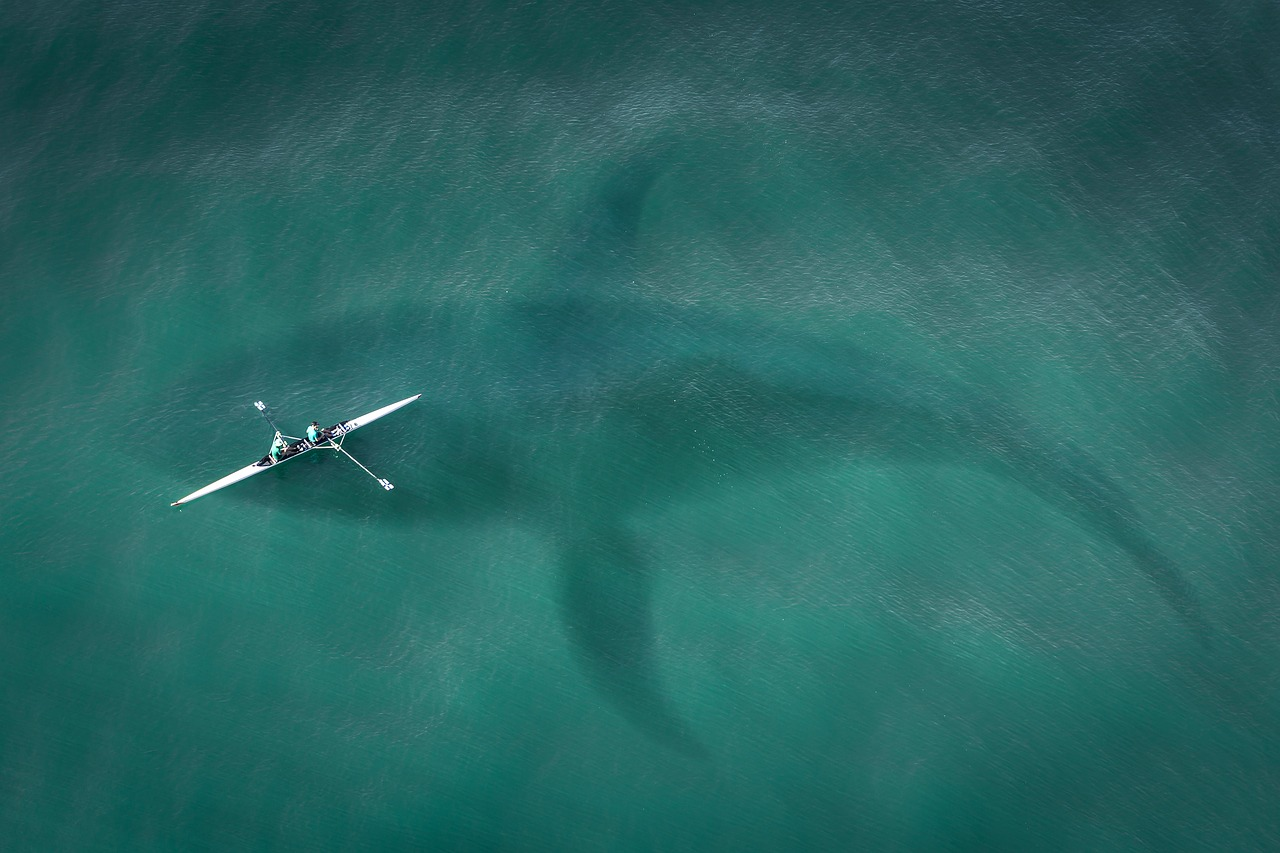kayak: (163, 387, 426, 513)
